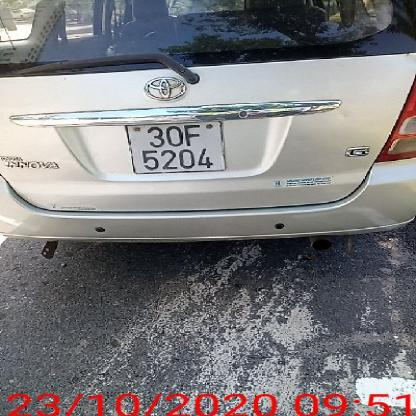biensoxe: (124, 120, 231, 174)
